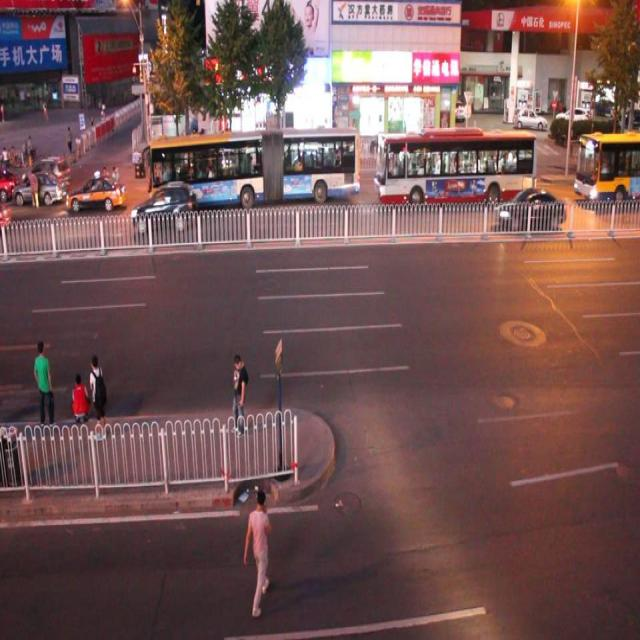car: (496, 184, 563, 230), (131, 186, 193, 230), (66, 173, 125, 212), (14, 171, 66, 206), (186, 146, 227, 188), (27, 152, 70, 190), (284, 146, 329, 182), (0, 162, 16, 200)
van: (146, 129, 360, 205), (376, 126, 536, 206), (573, 126, 640, 206)
